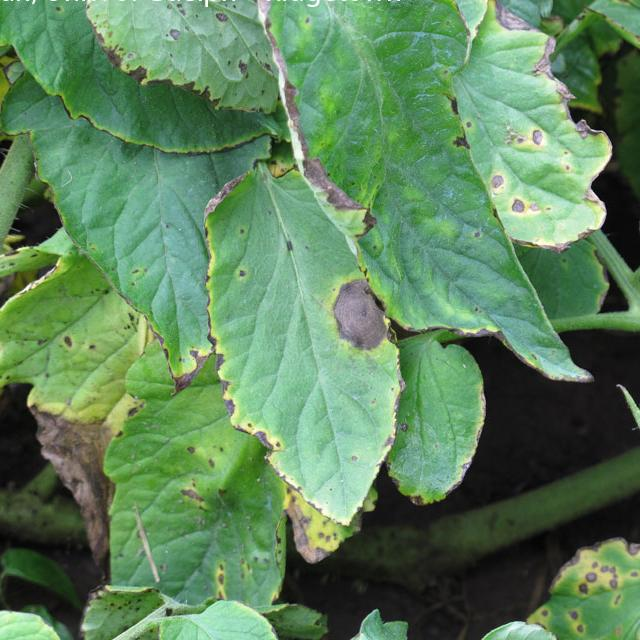Tomato Early blight leaf: (250, 0, 614, 371), (201, 163, 413, 508), (109, 372, 310, 632)
